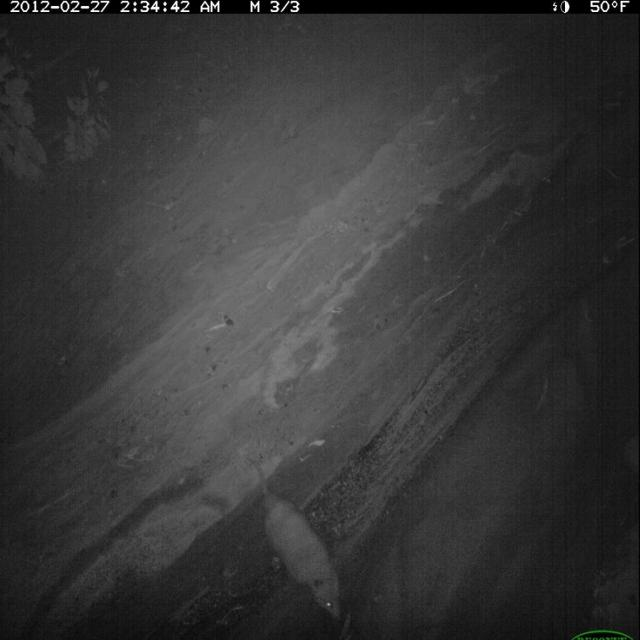opossum: (246, 453, 346, 627)
